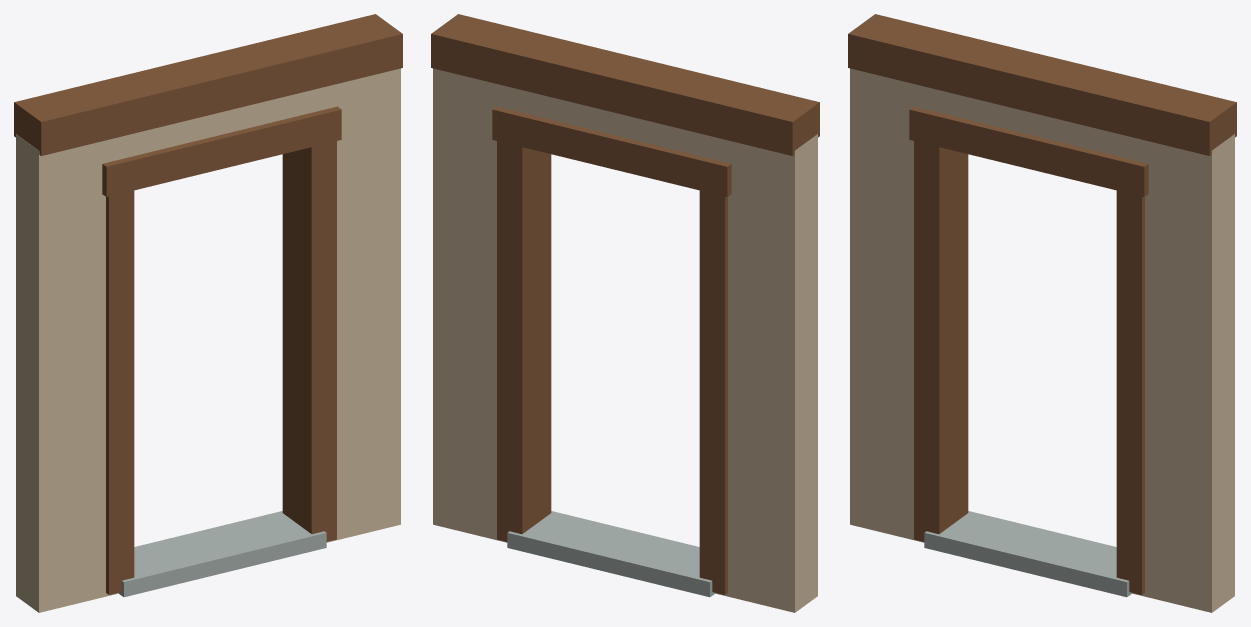
3 views of the same model, side by side, from view 1: azimuth 30°, elevation 25°; view 2: azimuth 150°, elevation 25°; view 3: azimuth 330°, elevation 25° (orthographic).
Parts seen in each view (by area): view 1: village-doorway-wall-2m-01; view 2: village-doorway-wall-2m-01; view 3: village-doorway-wall-2m-01.
Part boxes in pixels (x1,y1,x2,y2): village-doorway-wall-2m-01: [14, 14, 402, 612]; village-doorway-wall-2m-01: [431, 14, 819, 612]; village-doorway-wall-2m-01: [848, 14, 1236, 612].
Bounding box in the file's own units: 2 × 2.6 × 0.32.
